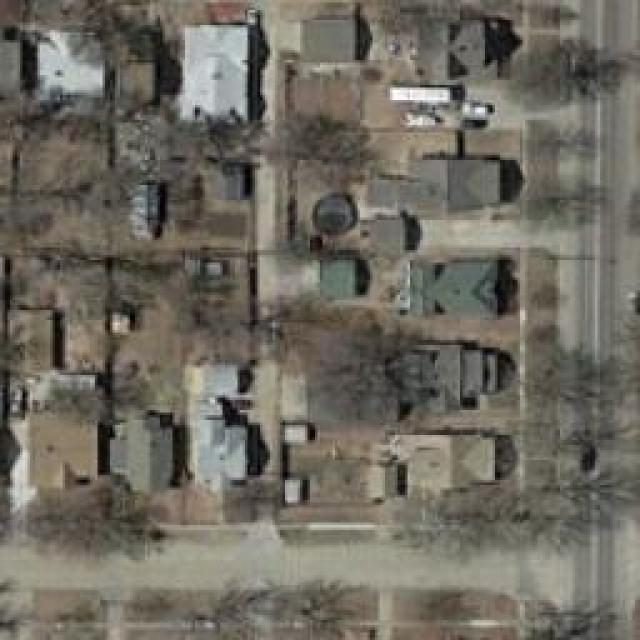City: (0, 0, 638, 638)
River: (0, 505, 638, 637)
